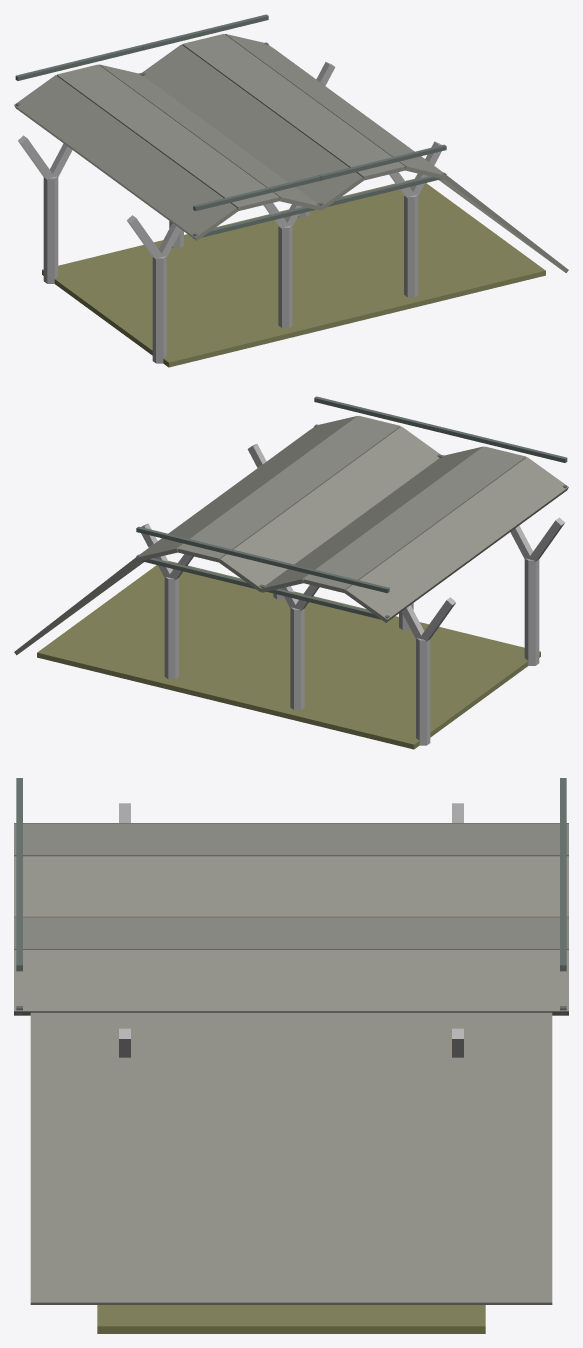
File: SM_MarquesinaBus_v0_Limpia_e1_Danado_LOD1.fbx
3 views of the same model, one above another, from view 1: azimuth 30°, elevation 25°; view 2: azimuth 150°, elevation 25°; view 3: azimuth 270°, elevation 25° (orthographic). The views are drawn at different scales.
Visible parts, largest first — view 1: SM_marquesina_bus_v1_LOD1; view 2: SM_marquesina_bus_v1_LOD1; view 3: SM_marquesina_bus_v1_LOD1.
Boxes of the visible parts, x1,y1,x2,y2 form: SM_marquesina_bus_v1_LOD1: (14, 14, 568, 367); SM_marquesina_bus_v1_LOD1: (14, 396, 568, 749); SM_marquesina_bus_v1_LOD1: (14, 778, 568, 1333).
Bounding box in the file's own units: 13.03 × 5.46 × 10.
